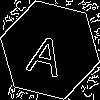A: (25, 25, 69, 78)
